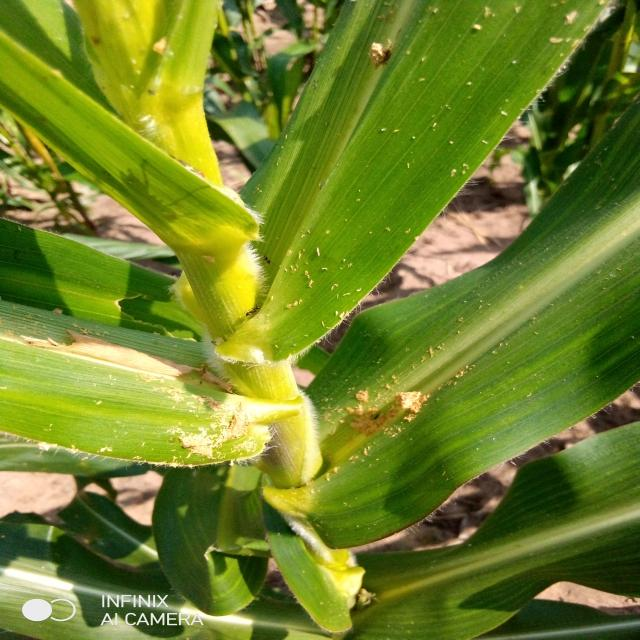fall-armyworm-egg: (100, 356, 279, 463), (339, 354, 477, 463), (346, 28, 428, 88), (332, 556, 403, 624)
fall-armyworm-frass: (350, 89, 520, 172), (5, 294, 128, 386), (438, 0, 589, 62), (272, 227, 352, 326)
